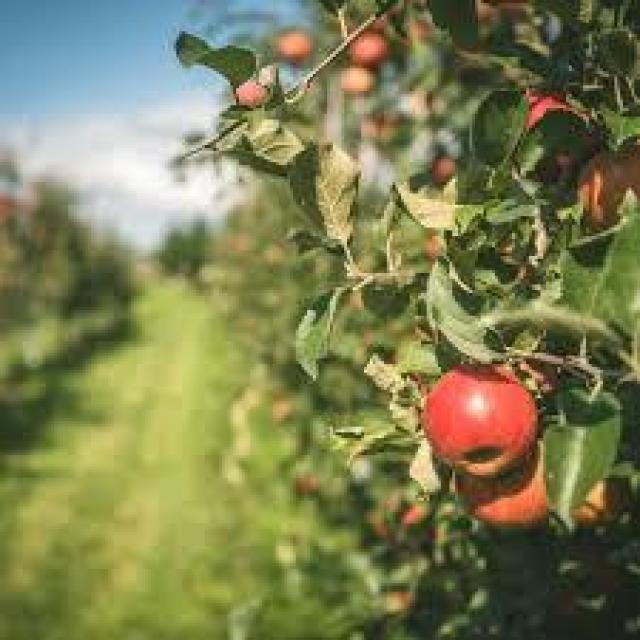fruit: (574, 136, 640, 230), (576, 477, 632, 529), (522, 91, 583, 138), (371, 499, 424, 543), (232, 64, 280, 111), (272, 27, 313, 67), (350, 32, 389, 67), (340, 66, 376, 95), (362, 111, 394, 140), (406, 15, 434, 46), (430, 155, 458, 185), (384, 589, 414, 615), (294, 474, 320, 497), (423, 234, 443, 259)
